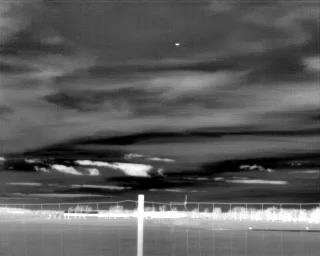AIRPLANE: (174, 41, 181, 48)
